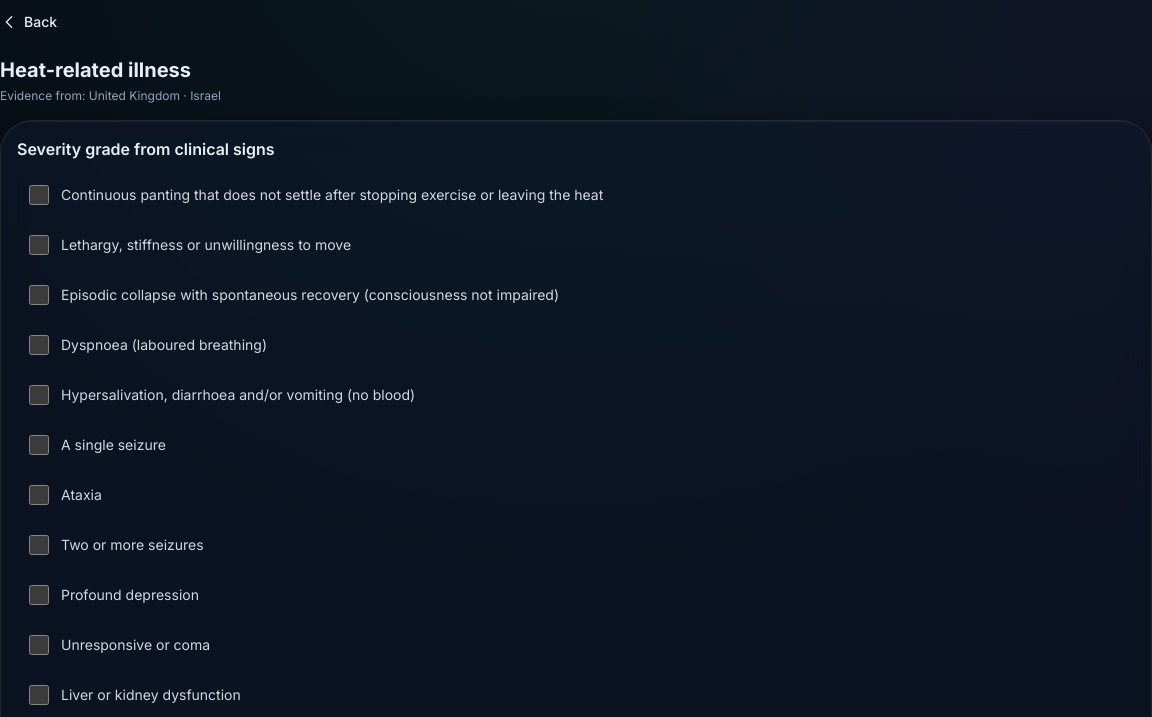
heat-related illness › shows both temperature groups when no temperature is entered
Click the checkbox labelled "Dyspnoea (laboured breathing)". click: {"x": 39, "y": 345}
box: [29, 335, 49, 355]
(page scrolled)
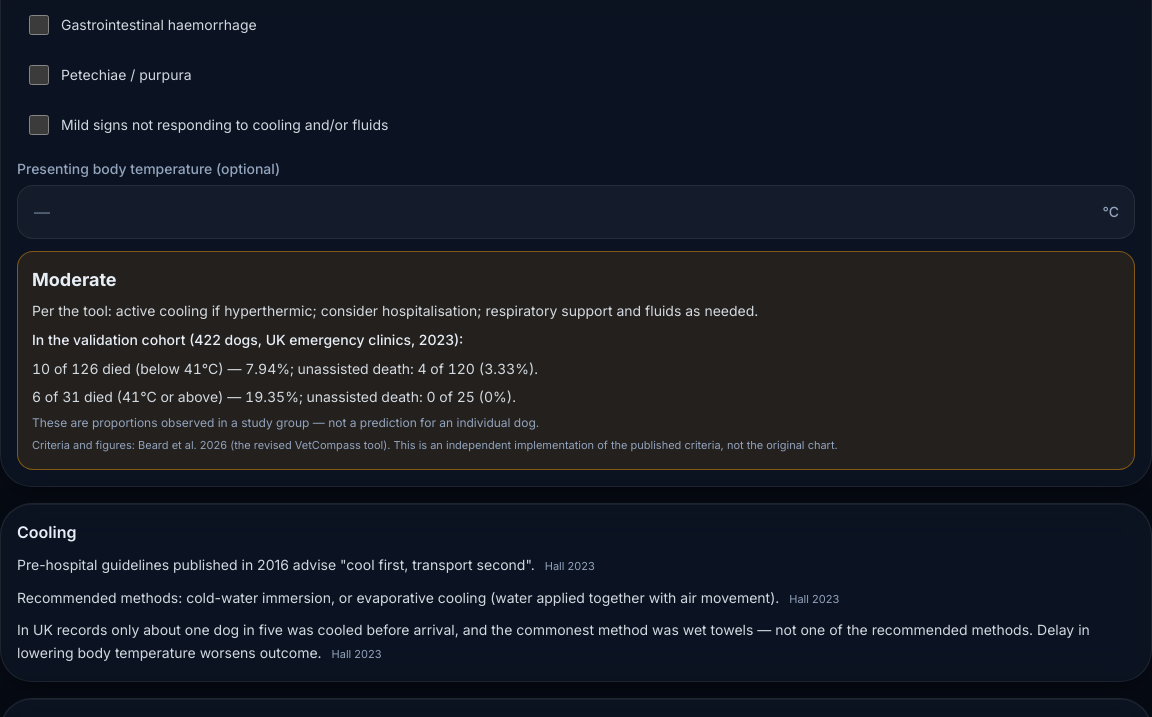
Expected: the message shows "10 of 126", [32, 360, 538, 376]
Expected: the message shows "6 of 31", [32, 388, 516, 405]
